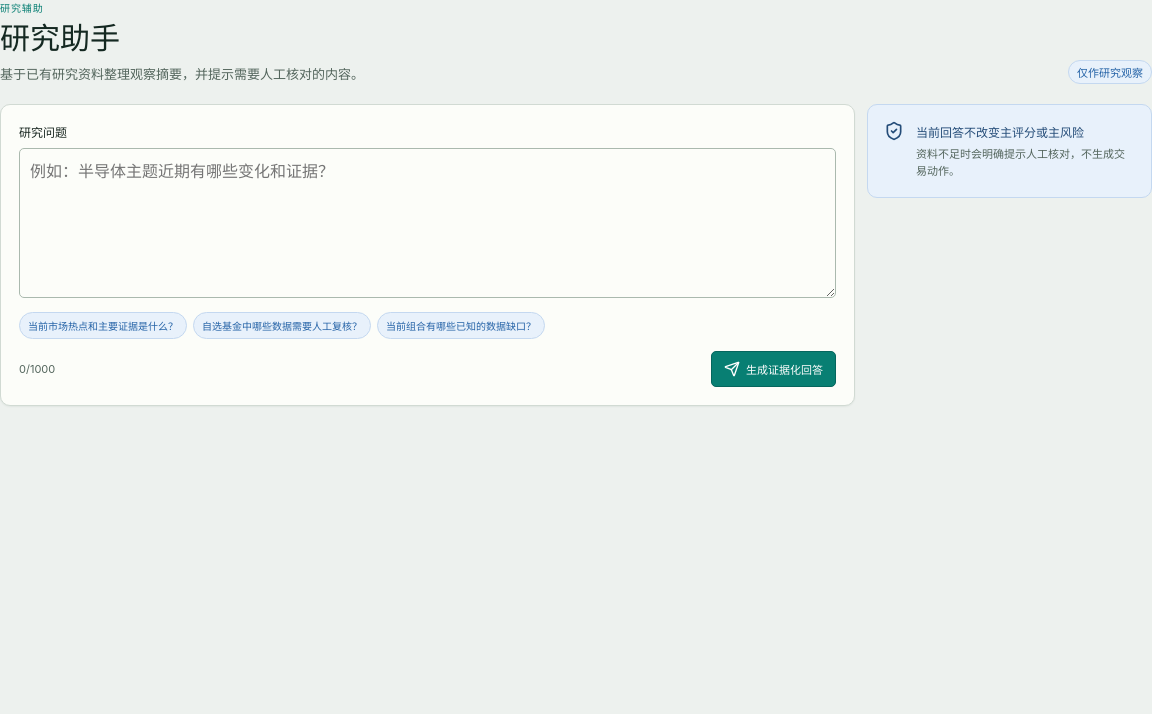
Test: CopilotPage › submits a research question and renders citations and data gaps
This screenshot has width=1152, height=714.
In the text box labelled "研究问题": (428, 223) [19,148,836,298], type "半导体近期有什么变化？"
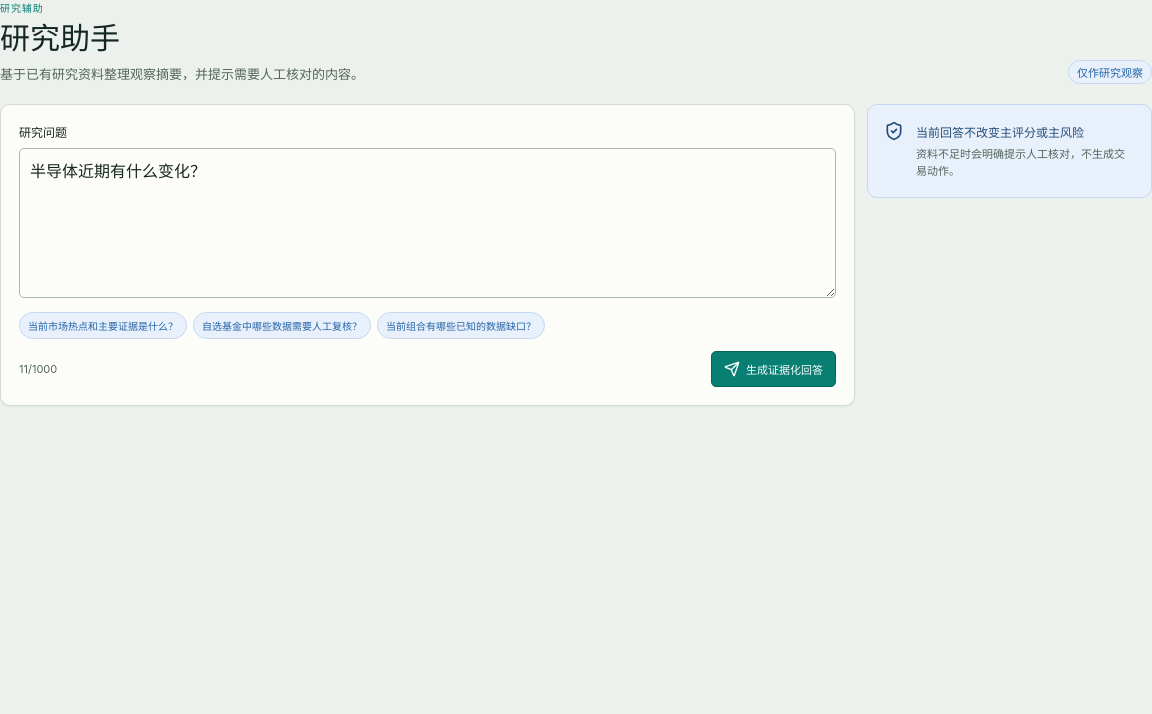
Click the button "生成证据化回答": (774, 369) [711,351,836,387]
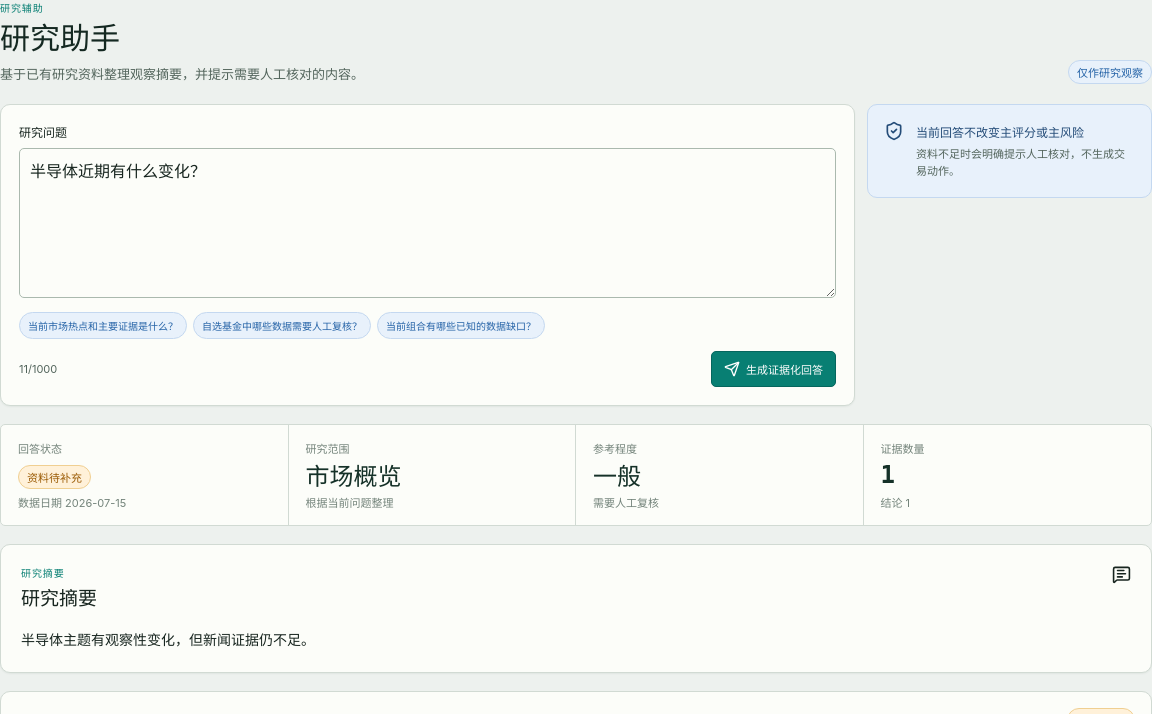
Expected: the text "当前回答不改变主评分或主风险" is shown, [916,125,1084,140]
Now the text "半导体主题有观察性变化，但新闻证据仍不足。" is shown, box [21,631,315,648]
Now the text "资料待补充" is shown 2 times
